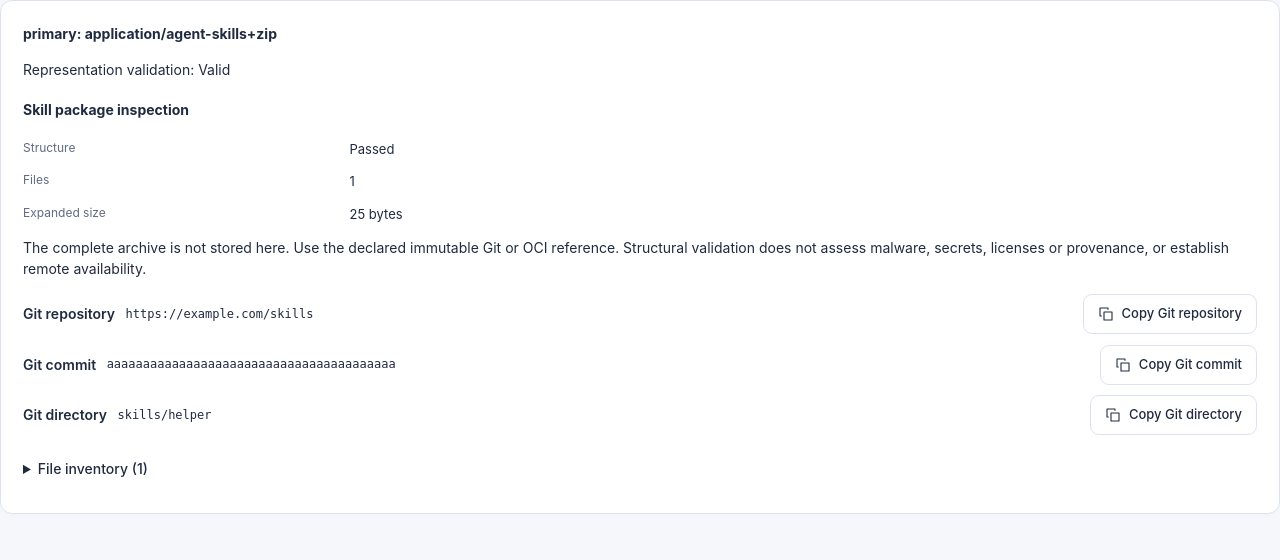
presents exact git Skill references without fetching or reconstructing an archive
expect the text "Passed" is shown: met, box [350,141,394,157]
expect the text "complete archive is not stored" is shown: met, box [23,239,1229,277]
Click the button "Copy Git repository": coordinates (1170, 314) [1082,294,1257,334]
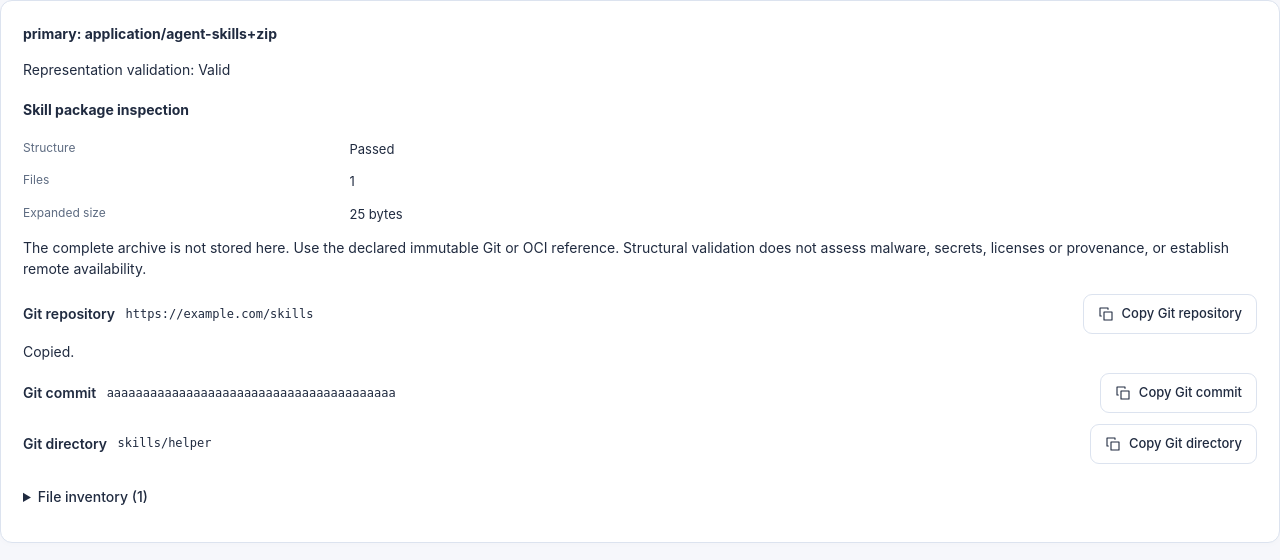
expect the text "Copied." is shown: met, box [23,343,74,360]
